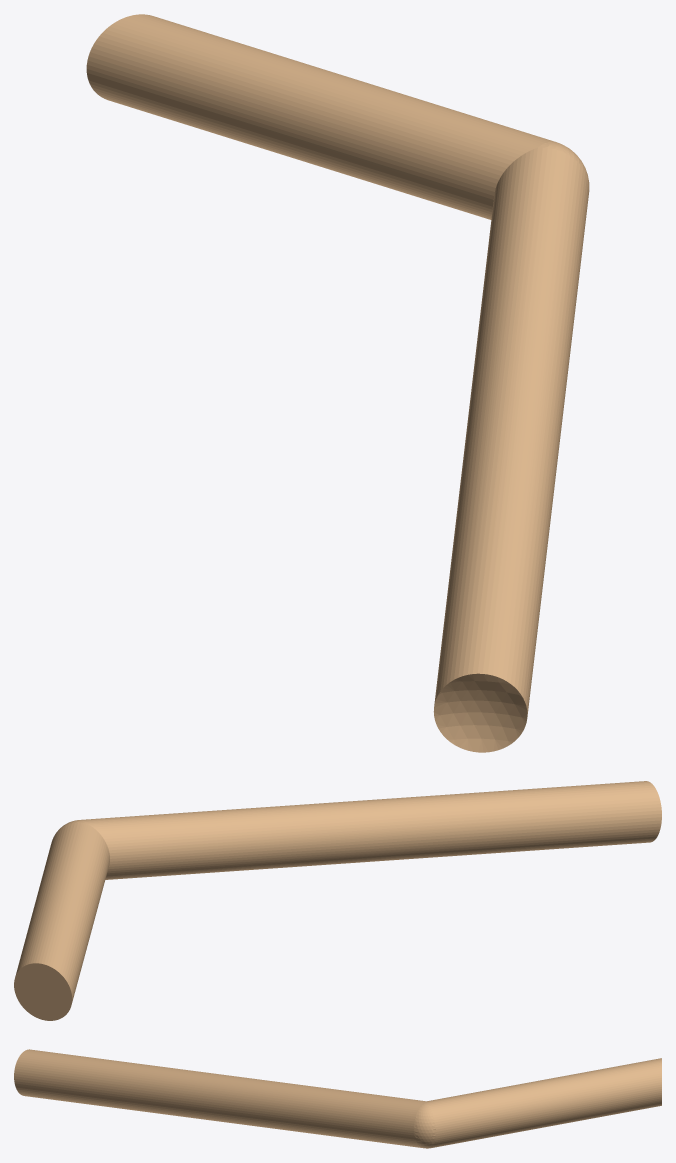
The model's file is starter-brush-pigtail-positive-1.glb.
3 views of the same model, one above another, from view 1: azimuth 30°, elevation 25°; view 2: azimuth 150°, elevation 25°; view 3: azimuth 270°, elevation 25° (orthographic). The views are drawn at different scales.
Visible parts, largest first — view 1: world; view 2: world; view 3: world.
Part boxes in pixels (<box>): world: <box>86,14,589,752</box>; world: <box>14,781,661,1020</box>; world: <box>14,1049,661,1148</box>.
Size of the model in its own units: 0.00857 by 0.00314 by 0.0179.
